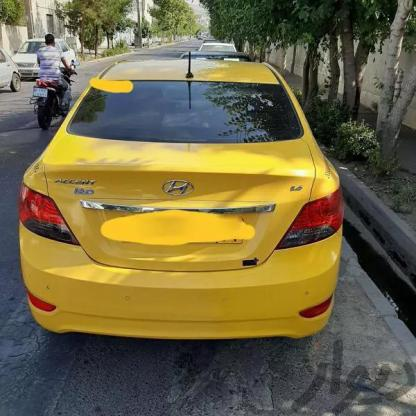Car: (23, 42, 353, 346), (18, 30, 78, 78)
